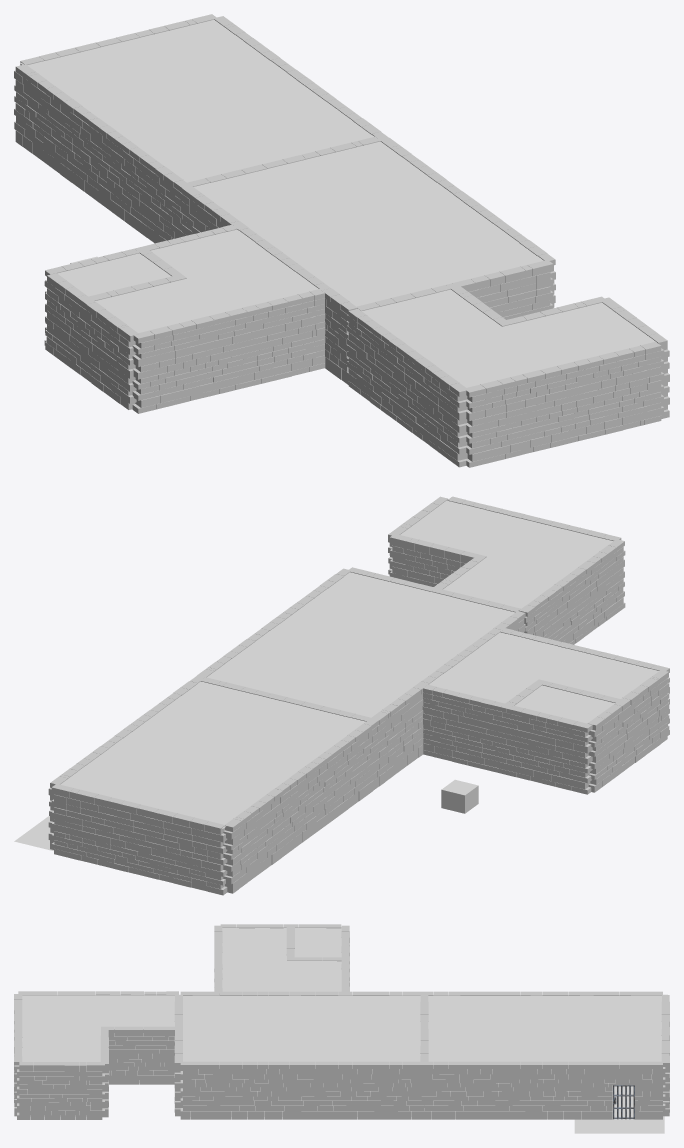
Rendered from budova.fbx.
The picture shows the model from 3 angles, top to bottom: view 1: azimuth 30°, elevation 25°; view 2: azimuth 150°, elevation 25°; view 3: azimuth 270°, elevation 25°; orthographic projection. The views are drawn at different scales.
Parts seen in each view (by area): view 1: Plane.005, Plane.007, Wall.008, Wall.009, Plane.006, Wall.007, Plane.004, Wall.012, Wall.011, Wall.003, Wall.001, Wall.002 (+5 smaller); view 2: Plane.005, Plane.007, Wall.004, Wall.010, Wall.007, Plane.006, Plane.004, Wall.012, Wall.011, Wall.003, Wall.013, Wall.006 (+8 smaller); view 3: Plane.005, Plane.007, Wall.002, Wall.006, Plane.006, Plane.004, Wall.015, Wall.014, Plane.003, Wall.003, Wall.007, Wall.001 (+9 smaller).
Boxes of the visible parts, left/top/right/bottom form: Plane.005: left=194, top=141, right=543, bottom=306; Plane.007: left=20, top=20, right=374, bottom=182; Wall.008: left=464, top=341, right=664, bottom=467; Wall.009: left=132, top=289, right=325, bottom=413; Plane.006: left=357, top=289, right=655, bottom=387; Wall.007: left=14, top=64, right=190, bottom=243; Plane.004: left=57, top=229, right=318, bottom=332; Wall.012: left=347, top=308, right=468, bottom=467; Wall.011: left=45, top=273, right=138, bottom=409; Wall.003: left=180, top=186, right=357, bottom=384; Wall.001: left=357, top=260, right=553, bottom=319; Wall.002: left=380, top=138, right=555, bottom=308; Plane.005: left=207, top=572, right=514, bottom=717; Plane.007: left=60, top=681, right=365, bottom=828; Wall.004: left=51, top=784, right=227, bottom=895; Wall.010: left=423, top=684, right=592, bottom=794; Wall.007: left=223, top=718, right=379, bottom=893; Plane.006: left=400, top=500, right=613, bottom=608; Plane.004: left=429, top=632, right=658, bottom=723; Wall.012: left=519, top=539, right=625, bottom=644; Wall.011: left=588, top=670, right=669, bottom=792; Wall.003: left=371, top=611, right=525, bottom=786; Wall.013: left=389, top=534, right=478, bottom=586; Wall.006: left=48, top=676, right=204, bottom=849; Plane.005: left=183, top=995, right=420, bottom=1062; Plane.007: left=428, top=994, right=667, bottom=1062; Wall.002: left=180, top=1061, right=424, bottom=1119; Wall.006: left=421, top=1061, right=665, bottom=1119; Plane.006: left=22, top=994, right=180, bottom=1062; Plane.004: left=222, top=927, right=341, bottom=994; Wall.015: left=17, top=1062, right=104, bottom=1119; Wall.014: left=101, top=1026, right=181, bottom=1084; Plane.003: left=431, top=1063, right=664, bottom=1133; Wall.003: left=180, top=991, right=421, bottom=995; Wall.007: left=421, top=991, right=662, bottom=995; Wall.001: left=174, top=995, right=182, bottom=1116.
Size of the model in its own units: 9118 by 1501 by 16308.
